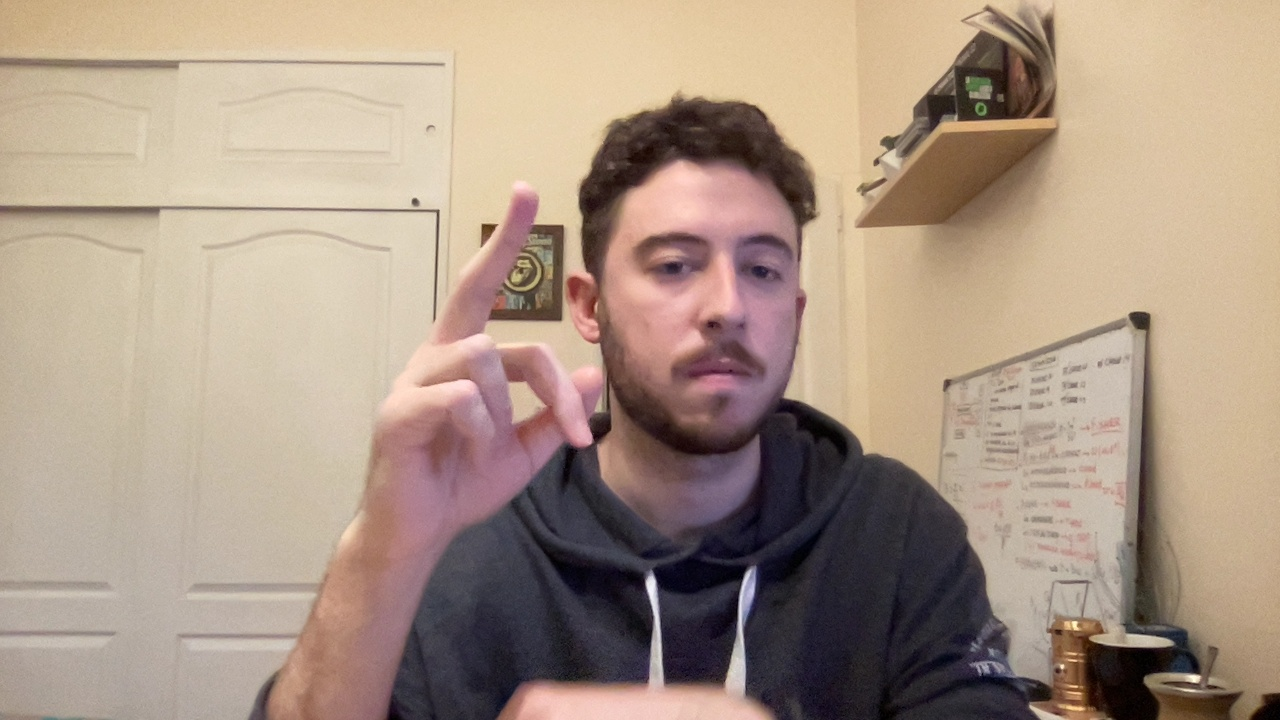mayor: (339, 168, 633, 521)
